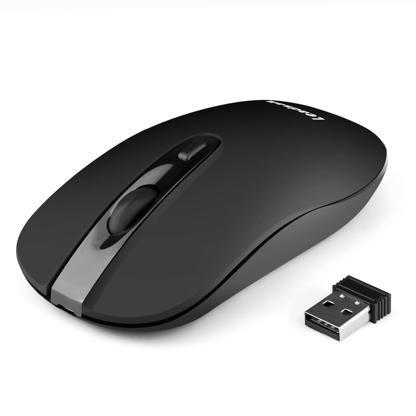not trash: (16, 93, 388, 331), (303, 273, 394, 338)
